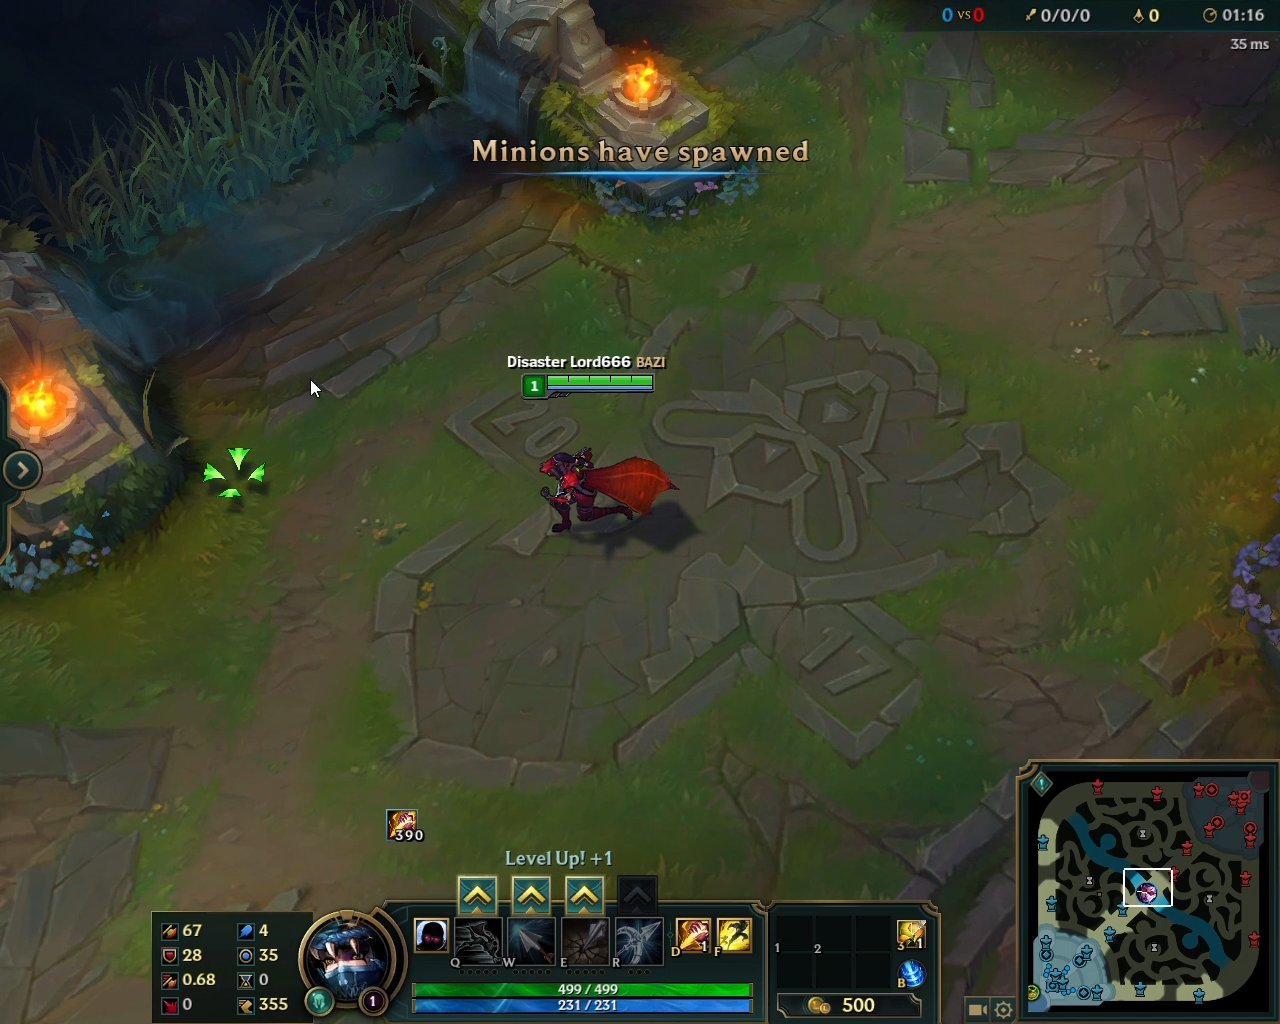Vayne: (529, 439, 686, 545)
